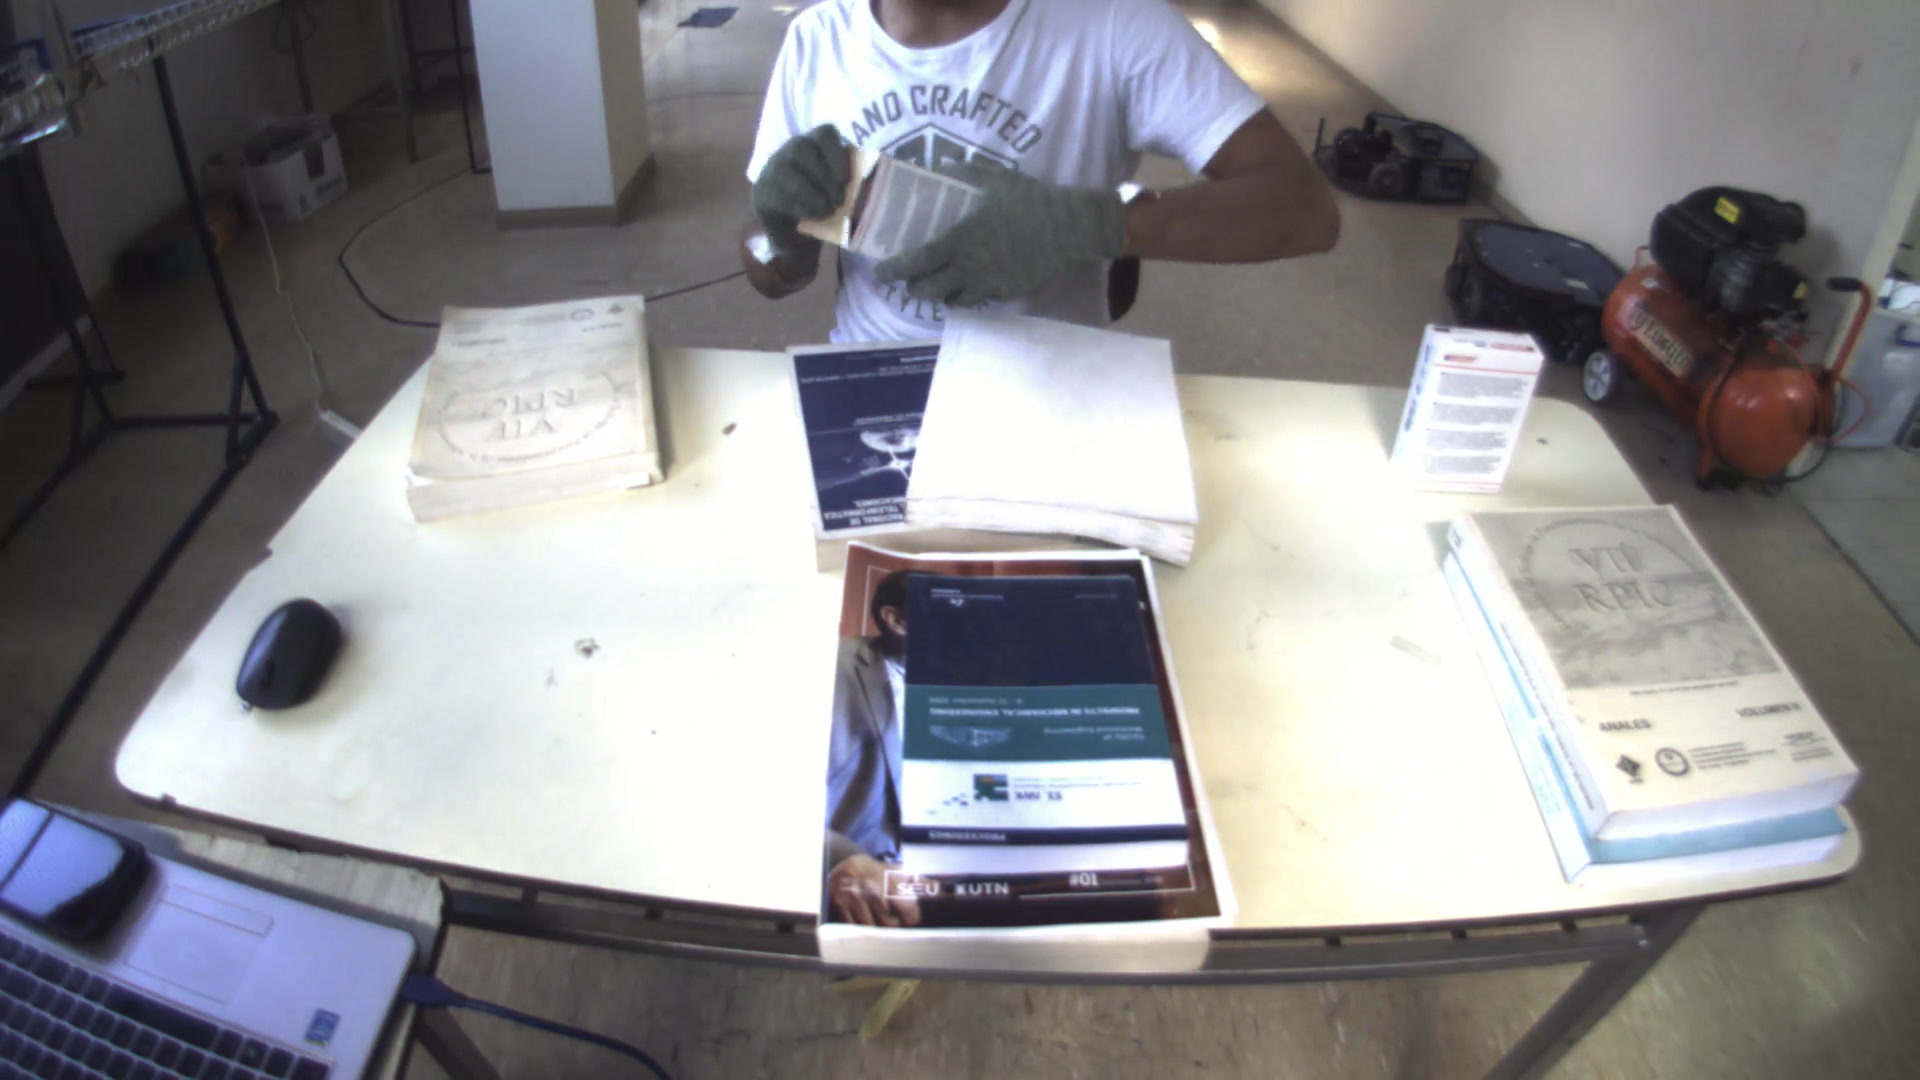hand: (862, 161, 1124, 316), (752, 117, 869, 223)
